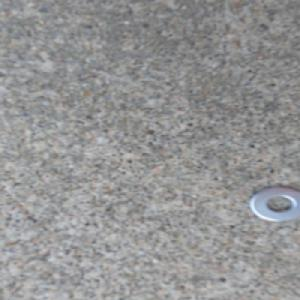Washer: (247, 184, 300, 223)
